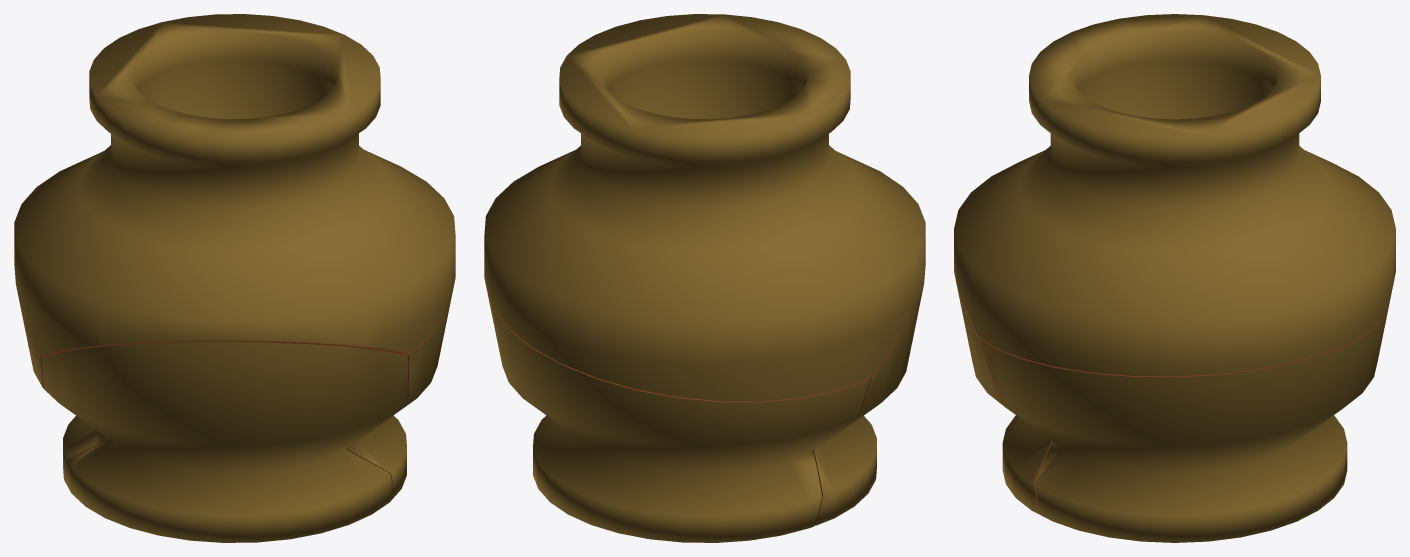
File: BrokenJar.fbx
3 views of the same model, side by side, from view 1: azimuth 30°, elevation 25°; view 2: azimuth 150°, elevation 25°; view 3: azimuth 270°, elevation 25° (orthographic).
Visible parts, largest first — view 1: VASE.028_cell.002, VASE.028_cell.001, VASE.028_cell; view 2: VASE.028_cell.002, VASE.028_cell, VASE.028_cell.001; view 3: VASE.028_cell.002, VASE.028_cell, VASE.028_cell.001.
Boxes of the visible parts, box(x1,y1,x2,y2) form: VASE.028_cell.002: box(14, 14, 455, 356); VASE.028_cell.001: box(41, 342, 408, 542); VASE.028_cell: box(26, 297, 451, 496); VASE.028_cell.002: box(484, 14, 925, 401); VASE.028_cell: box(487, 292, 870, 542); VASE.028_cell.001: box(813, 254, 925, 525); VASE.028_cell.002: box(954, 14, 1395, 376); VASE.028_cell: box(980, 303, 1389, 542); VASE.028_cell.001: box(954, 265, 1052, 514).
Size of the model in its own units: 80.77 by 79.57 by 80.77.
